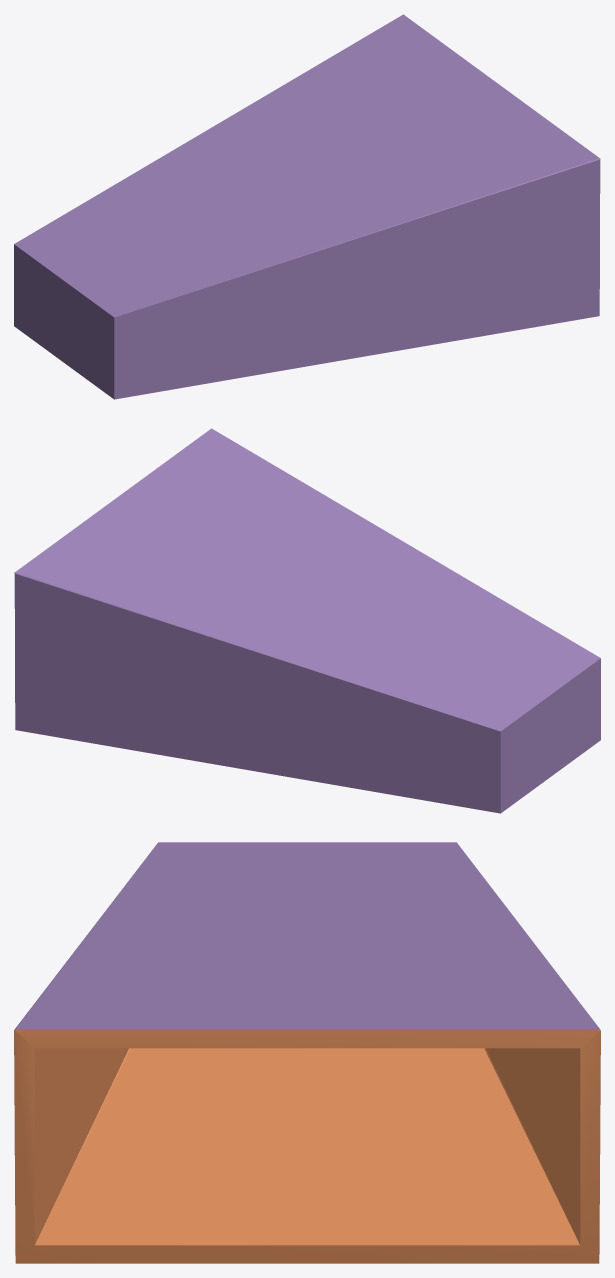
File: SM_Props1.fbx
3 views of the same model, one above another, from view 1: azimuth 30°, elevation 25°; view 2: azimuth 150°, elevation 25°; view 3: azimuth 270°, elevation 25° (orthographic). The views are drawn at different scales.
Visible parts, largest first — view 1: SM_Props1; view 2: SM_Props1; view 3: SM_Props1.
Boxes of the visible parts, bbox=[...] form: SM_Props1: bbox=[14, 14, 600, 399]; SM_Props1: bbox=[14, 428, 600, 813]; SM_Props1: bbox=[14, 842, 600, 1263].
Size of the model in its own units: 12.42 by 9.68 by 4.6.
Materials: 1 (1 with a texture image).
